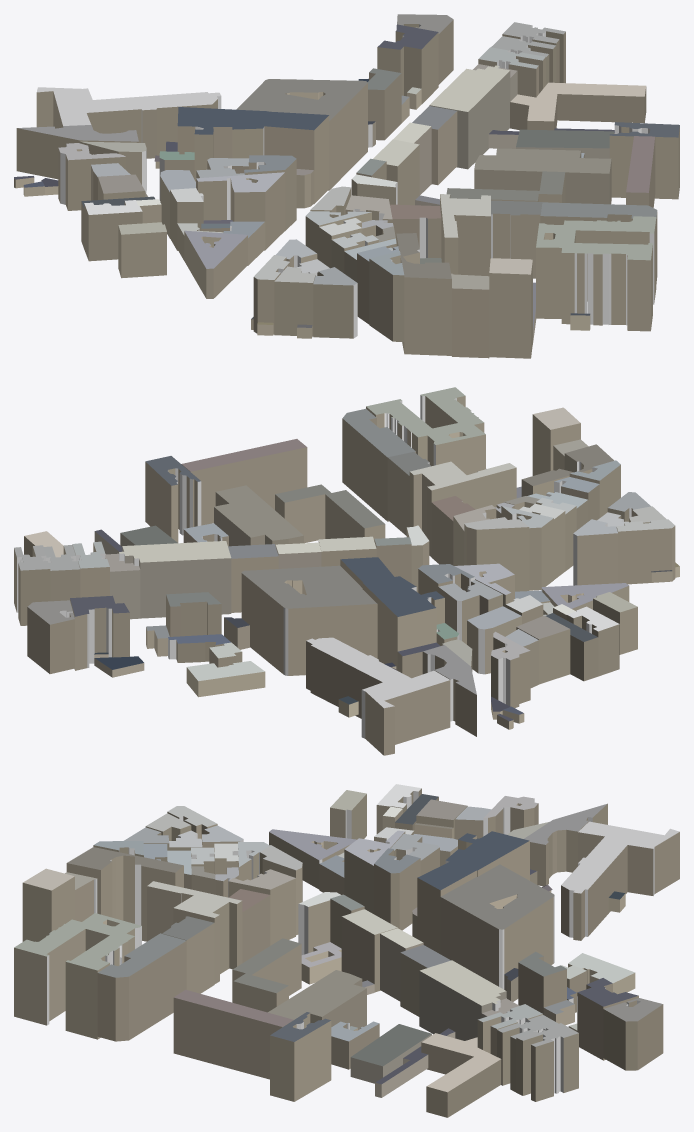
3 views of the same model, one above another, from view 1: azimuth 30°, elevation 25°; view 2: azimuth 150°, elevation 25°; view 3: azimuth 270°, elevation 25° (orthographic). The views are drawn at different scales.
Parts seen in each view (by area): view 1: tuile; view 2: tuile; view 3: tuile.
Part boxes in pixels (box(x1,y1,x2,y2)): tuile: box(14, 14, 679, 358); tuile: box(14, 387, 679, 755); tuile: box(14, 784, 679, 1117).
Bounding box in the file's own units: 278 × 38.84 × 283.
